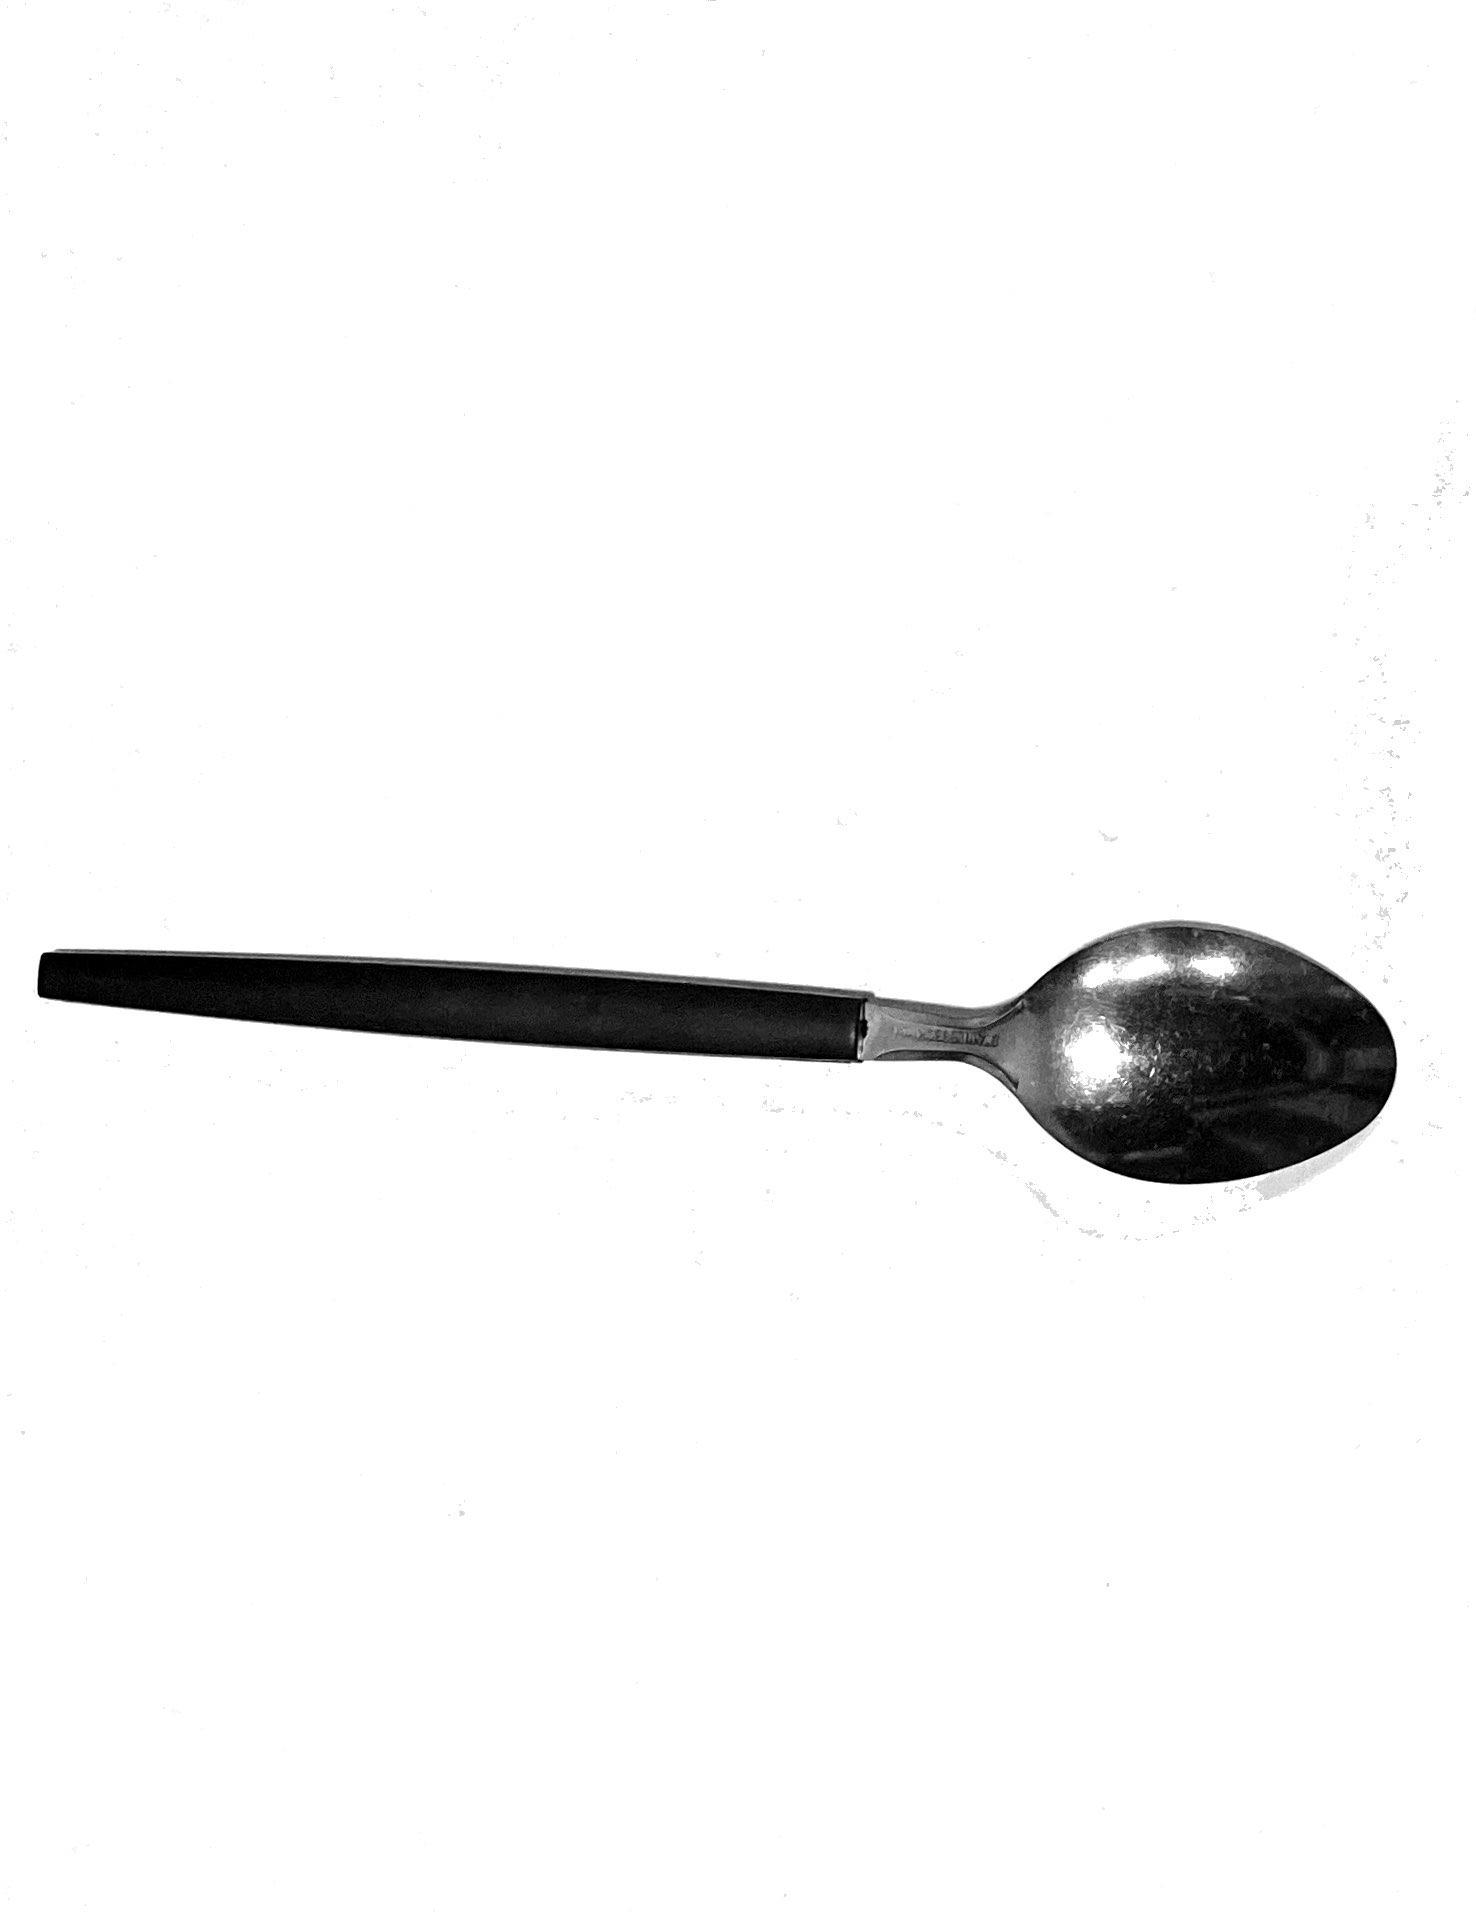Spoon: (26, 857, 1416, 1381)
